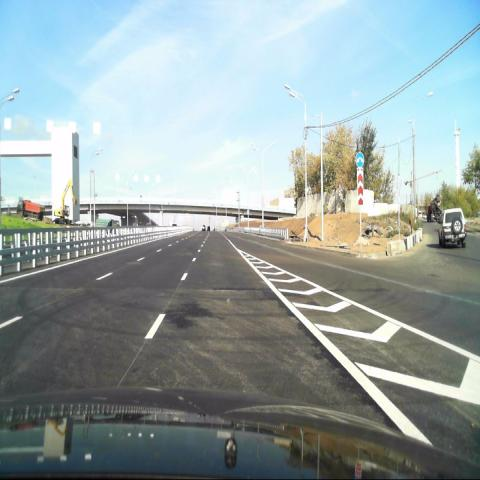4_2_3: (354, 148, 365, 168)
